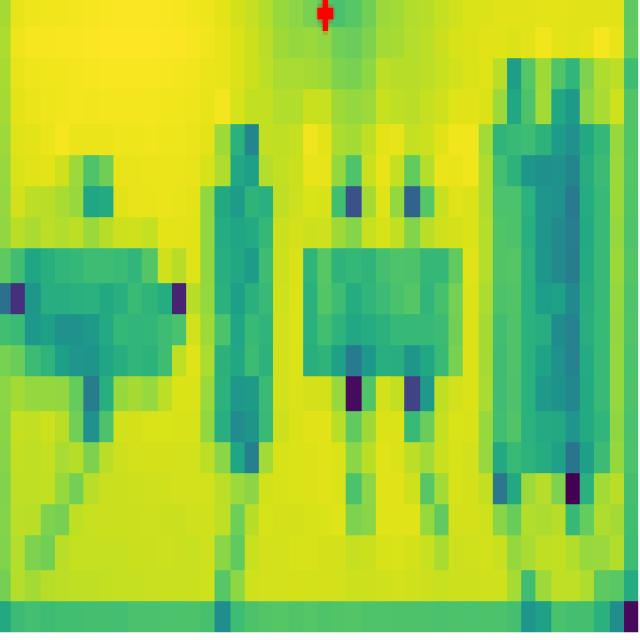Concrete: (24, 248, 160, 378)
Glass: (480, 124, 612, 470)
Metal: (202, 185, 275, 439)
Wood: (303, 244, 463, 377)
